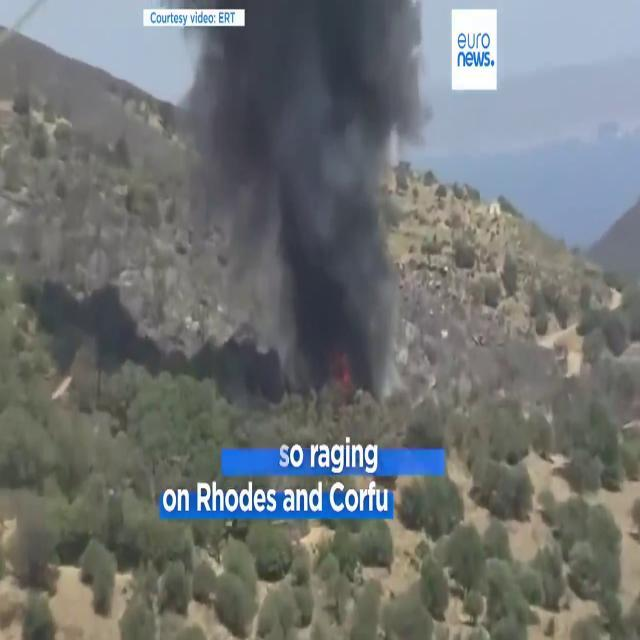Smoke: (188, 1, 422, 392)
